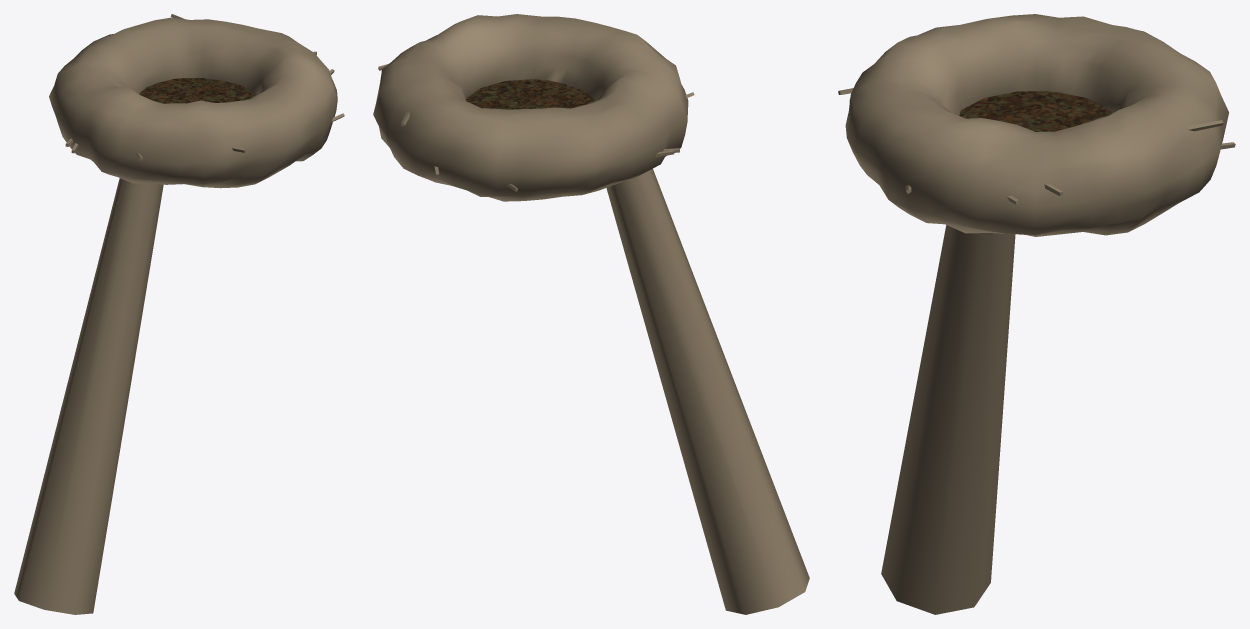
Rendered from abandoned-nest-v01.glb.
The picture shows the model from 3 angles, left to right: view 1: azimuth 30°, elevation 25°; view 2: azimuth 150°, elevation 25°; view 3: azimuth 270°, elevation 25°; orthographic projection. The views are drawn at different scales.
Parts seen in each view (by area): view 1: abandoned-nest; view 2: abandoned-nest; view 3: abandoned-nest.
Part boxes in pixels (x1,y1,x2,y2): abandoned-nest: (14, 14, 344, 614); abandoned-nest: (373, 14, 809, 614); abandoned-nest: (838, 14, 1235, 614).
Bounding box in the file's own units: 1.15 × 1.53 × 0.865.
2 materials, 1 textured.
